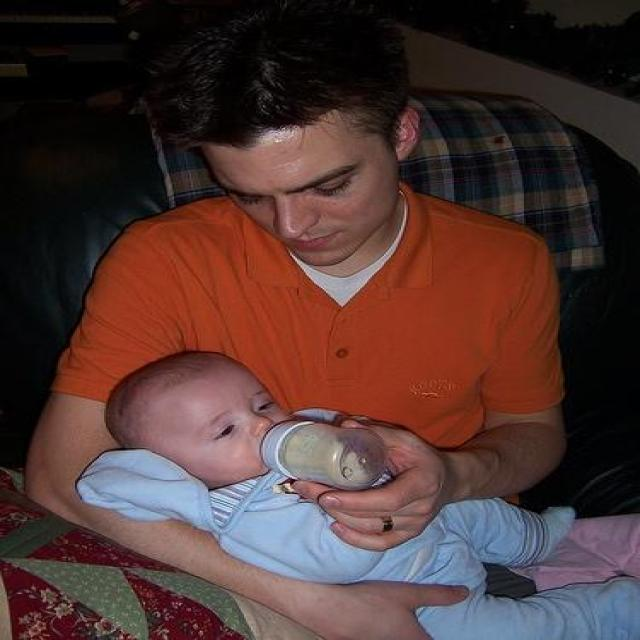No_Gloves: (292, 422, 466, 552), (286, 564, 479, 640)
